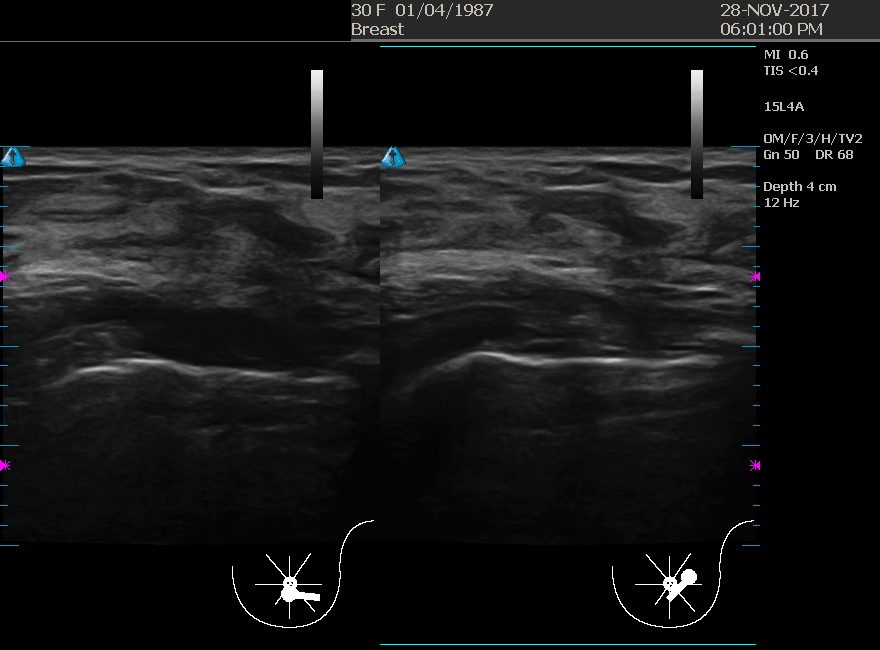BIRADS_4: (166, 199, 366, 399), (488, 150, 688, 350)
